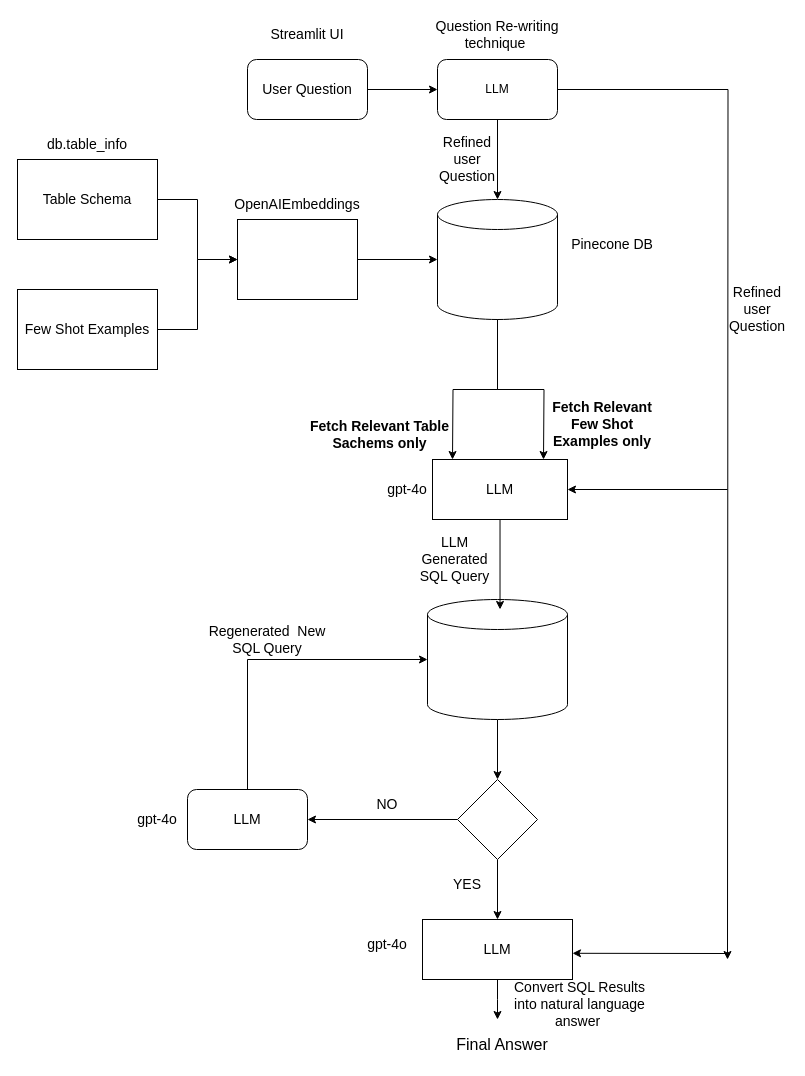
Image size: 805x1076. Some labels were removed from this diagram. Here are the shapes that lost their labels. From the top down, the centre of each, then its label:
At (297,259): "Embeddings".
At (497,259): "Vector DB".
At (497,659): "MYSQL DB".
At (497,819): "Query Execution Passed".
